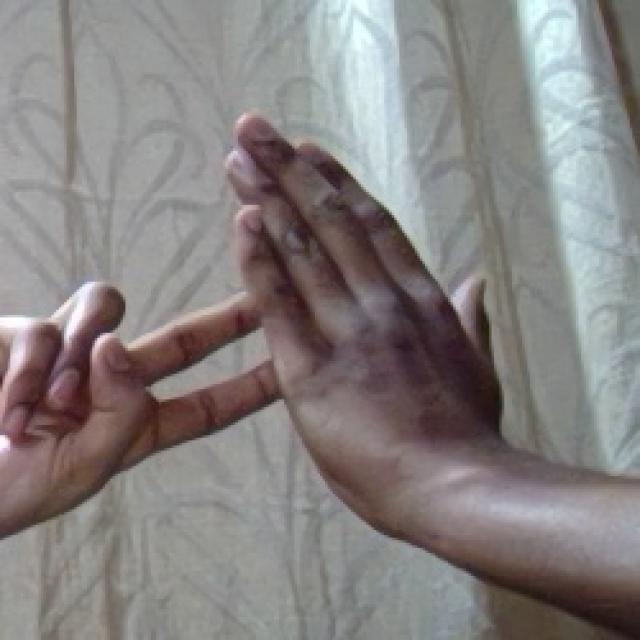Alphabet-N: (0, 92, 507, 533)
